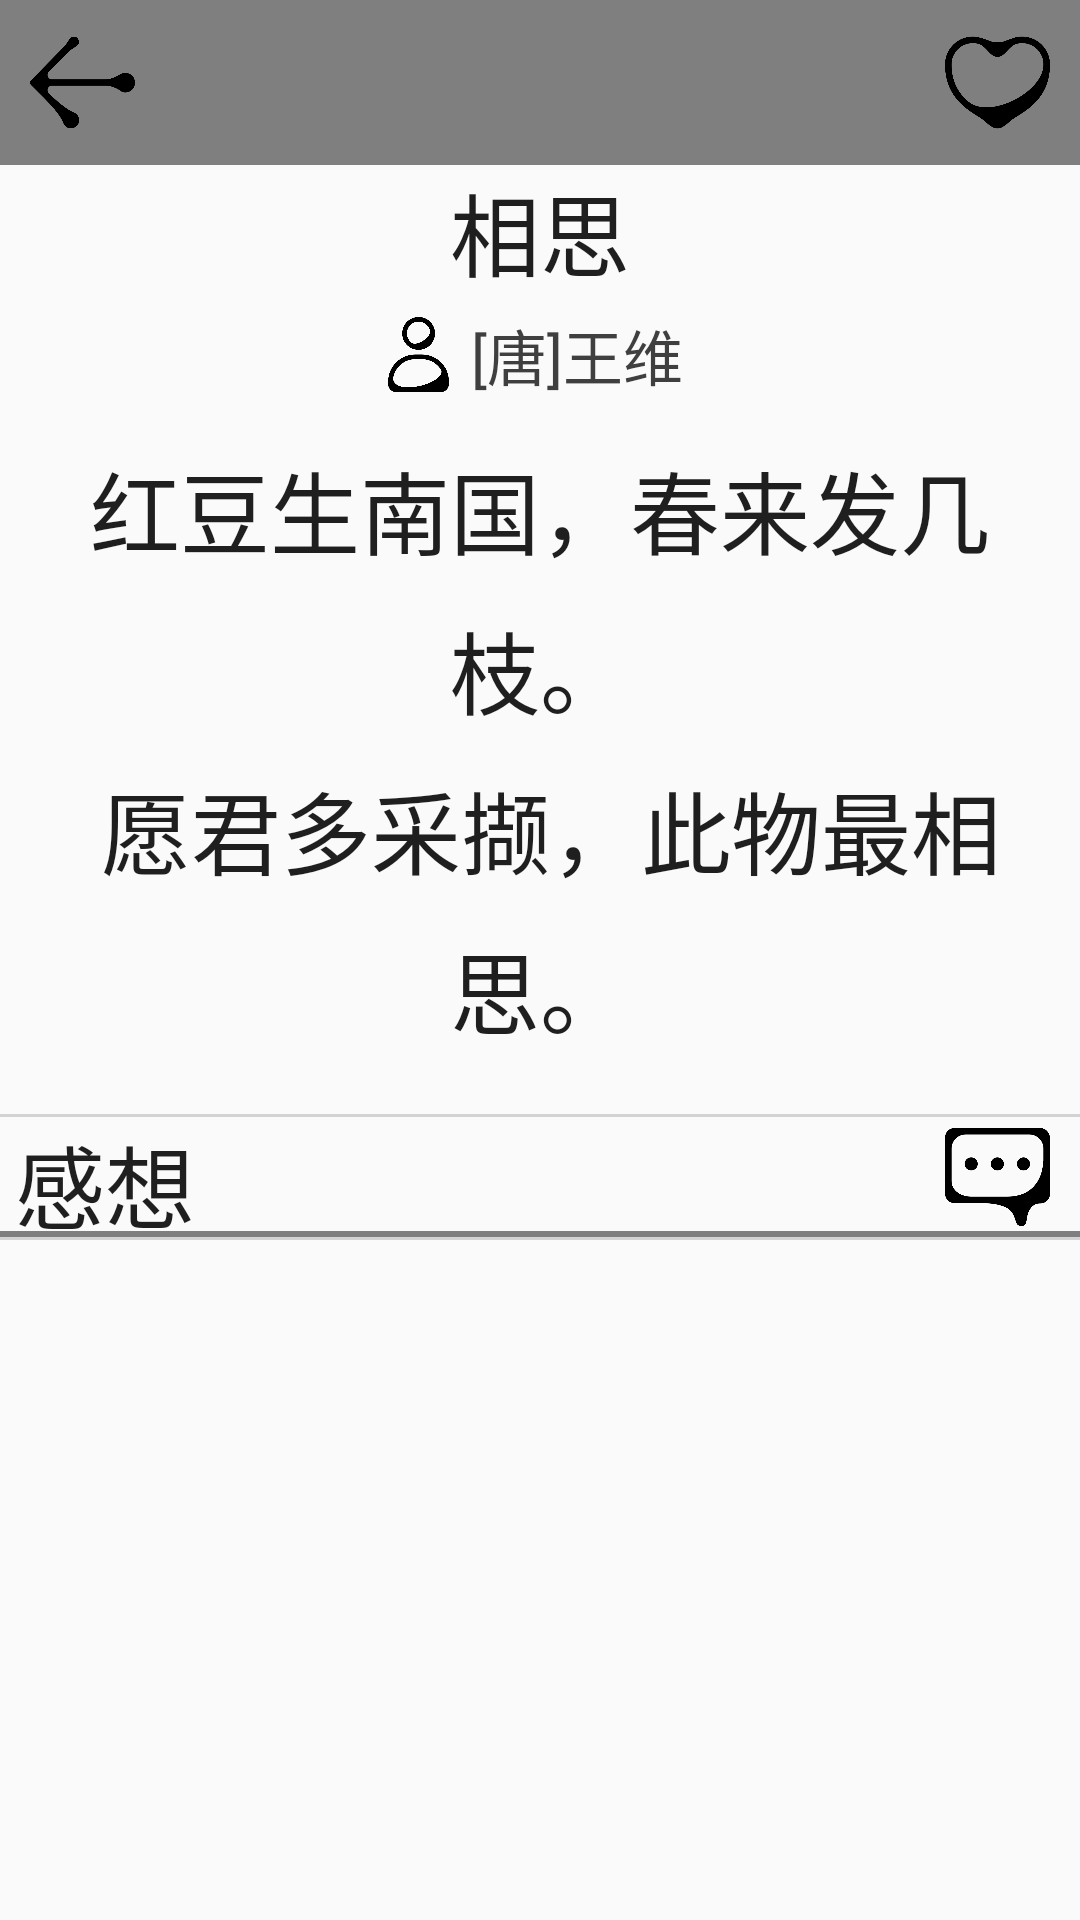

Locate icon controls on the screen. Image size 1080px×1920px, boxes as (x1, y1, x2, y2).
back: (30, 37, 135, 128)
heart: (945, 37, 1050, 128)
speech: (945, 1128, 1050, 1226)
user info: (388, 317, 449, 392)
